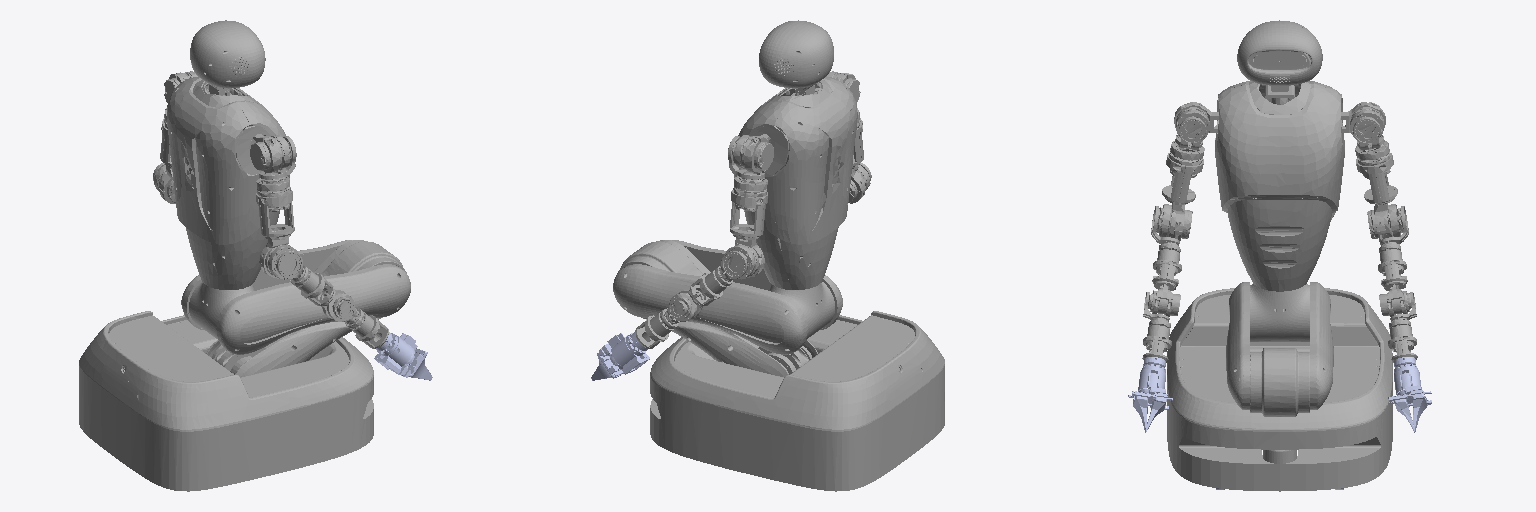
--- What the picture shows (computed from the rendered views, not written in the file) ---
The picture shows the robot from 3 angles, left to right: view 1: azimuth 30°, elevation 25°; view 2: azimuth 150°, elevation 25°; view 3: azimuth 270°, elevation 25°; orthographic projection.
Model ymbot_d_description with 34 links and 33 joints (20 revolute, 13 fixed), rooted at base_footprint_link, posed every joint at zero.
Visible links, largest first — view 1: base_link, Body_Link4, Body_Link2, Body_Link1, Neck_Link2, Right_Arm_Link3, Right_Arm_Link8, Body_Link3, Right_Arm_Link5, Right_Arm_Link1, Left_Arm_Link3, Right_Arm_Link7; view 2: base_link, Body_Link4, Body_Link2, Body_Link1, Neck_Link2, Left_Arm_Link3, Left_Arm_Link8, Body_Link3, Left_Arm_Link5, Left_Arm_Link1, Right_Arm_Link3, Left_Arm_Link7; view 3: base_link, Body_Link4, Body_Link2, Neck_Link2, Body_Link1, Body_Link3, Left_Arm_Link3, Right_Arm_Link3, Right_Arm_Link5, Left_Arm_Link5, Right_Arm_Link8, Left_Arm_Link8 (+6 smaller).
Boxes of the visible links, x1,y1,x2,y2 form: base_link: [79, 311, 373, 491]; Body_Link4: [167, 77, 289, 289]; Body_Link2: [181, 240, 410, 354]; Body_Link1: [206, 240, 406, 377]; Neck_Link2: [190, 20, 265, 90]; Right_Arm_Link3: [256, 173, 299, 279]; Right_Arm_Link8: [374, 332, 432, 380]; Body_Link3: [189, 282, 254, 338]; Right_Arm_Link5: [290, 266, 354, 321]; Right_Arm_Link1: [249, 133, 291, 173]; Left_Arm_Link3: [154, 108, 175, 203]; Right_Arm_Link7: [345, 308, 388, 348]; base_link: [650, 311, 944, 491]; Body_Link4: [734, 76, 857, 289]; Body_Link2: [613, 240, 842, 354]; Body_Link1: [617, 240, 817, 376]; Neck_Link2: [759, 20, 833, 90]; Left_Arm_Link3: [725, 173, 767, 279]; Left_Arm_Link8: [591, 332, 649, 380]; Body_Link3: [770, 282, 834, 339]; Left_Arm_Link5: [669, 266, 732, 321]; Left_Arm_Link1: [732, 133, 774, 172]; Right_Arm_Link3: [848, 108, 870, 203]; Left_Arm_Link7: [635, 308, 678, 348]; base_link: [1167, 288, 1392, 491]; Body_Link4: [1215, 81, 1344, 291]; Body_Link2: [1226, 282, 1333, 409]; Neck_Link2: [1237, 20, 1322, 85]; Body_Link1: [1250, 348, 1309, 416]; Body_Link3: [1250, 284, 1309, 341]; Left_Arm_Link3: [1355, 141, 1403, 241]; Right_Arm_Link3: [1156, 141, 1204, 240]; Right_Arm_Link5: [1148, 241, 1181, 316]; Left_Arm_Link5: [1378, 241, 1411, 316]; Right_Arm_Link8: [1128, 357, 1172, 432]; Left_Arm_Link8: [1388, 357, 1431, 432].
Bounding box of the posed robot: 0.7653 × 0.7153 × 1.07 m (x, y, z).
33 mesh visuals loaded from 33 distinct referenced files (33 binary STL).

robot.urdf — ymbot_d_description:
<?xml version="1.0" encoding="utf-8"?>
<!-- This URDF was automatically created by SolidWorks to URDF Exporter! Originally created by Stephen Brawner ([email redacted]) 
     Commit Version: 1.6.0-4-g7f85cfe  Build Version: 1.6.7995.38578
     For more information, please see http://wiki.ros.org/sw_urdf_exporter -->
<robot
  name="ymbot_d_description">


  <link name="base_footprint_link" />
  <joint name="base_footprint_joint" type="fixed">
    <parent link="base_footprint_link" />
    <child link="base_link" />
    <origin xyz="0 0 0" rpy="0 0 0"/>
  </joint>



  <link
    name="base_link">
    <inertial>
      <origin
        xyz="-0.14091401 0.00600638 0.10951765"
        rpy="0 0 0" />
      <mass
        value="32.79998065" />
      <inertia
        ixx="0.55932667"
        ixy="0.01501602"
        ixz="0.04711075"
        iyy="0.69142971"
        iyz="-0.01485230"
        izz="1.11612558" />
    </inertial>
    <visual>
      <origin
        xyz="0 0 0"
        rpy="0 0 0" />
      <geometry>
        <mesh
          filename="package://ymbot_d_description/meshes/base_link.STL" />
      </geometry>
      <material
        name="">
        <color
          rgba="0.698039215686274 0.698039215686274 0.698039215686274 1" />
      </material>
    </visual>
    <collision>
      <origin
        xyz="-0.15 -0.15 0.12"
        rpy="0 0 0" />
      <geometry>
          <sphere radius="0.18"/>
      </geometry>
     </collision>
    <collision>
      <origin
        xyz="-0.15 0.15 0.12"
        rpy="0 0 0" />
      <geometry>
          <sphere radius="0.18"/>
      </geometry>
     </collision>
    <collision>
      <origin
        xyz="0.11 -0.15 0.12"
        rpy="0 0 0" />
      <geometry>
          <sphere radius="0.18"/>
      </geometry>
     </collision>
         <collision>
      <origin
        xyz="0.11 0.15 0.12"
        rpy="0 0 0" />
      <geometry>
          <sphere radius="0.18"/>
      </geometry>
     </collision>
  </link>
  <link
    name="Body_Link1">
    <inertial>
      <origin
        xyz="0.17406139 0.08135675 -0.00411365"
        rpy="0 0 0" />
      <mass
        value="8.92330142" />
      <inertia
        ixx="0.06662447"
        ixy="-0.10947125"
        ixz="-0.00006991"
        iyy="0.25042266"
        iyz="-0.00003952"
        izz="0.30271548" />
    </inertial>
    <visual>
      <origin
        xyz="0 0 0"
        rpy="0 0 0" />
      <geometry>
        <mesh
          filename="package://ymbot_d_description/meshes/Body_Link1.STL" />
      </geometry>
      <material
        name="">
        <color
          rgba="0.698039215686274 0.698039215686274 0.698039215686274 1" />
      </material>
    </visual>
    <collision>
          <origin
        xyz="-0.07 0 0"
        rpy="0 0 0" />
      <geometry>
          <sphere radius="0.17" /> 
      </geometry>
    </collision>
  </link>
  <joint
    name="Body_Joint1"
    type="revolute">
    <origin
      xyz="0 0 0.148"
      rpy="1.5708 0 0" />
    <parent
      link="base_link" />
    <child
      link="Body_Link1" />
    <axis
      xyz="0 0 1" />
    <limit
      lower="-0.03"
      upper="1.57"
      effort="100"
      velocity="1200" />
    <dynamics
      damping="0.1"
      friction="0.01" />
  </joint>
  <link
    name="Body_Link2">
    <inertial>
      <origin
        xyz="-0.20532119 0.00564049 0.00205158"
        rpy="0 0 0" />
      <mass
        value="4.92068840" />
      <inertia
        ixx="0.04567453"
        ixy="0.00019219"
        ixz="-0.00159375"
        iyy="0.15913741"
        iyz="0.00001127"
        izz="0.12927908" />
    </inertial>
    <visual>
      <origin
        xyz="0 0 0"
        rpy="0 0 0" />
      <geometry>
        <mesh
          filename="package://ymbot_d_description/meshes/Body_Link2.STL" />
      </geometry>
      <material
        name="">
        <color
          rgba="0.698039215686274 0.698039215686274 0.698039215686274 1" />
      </material>
    </visual>
    <collision>
          <origin
        xyz="-0.07 0 0"
        rpy="0 0 0" />
      <geometry>
          <sphere radius="0.17" /> 
      </geometry>
    </collision>
        <collision>
          <origin
        xyz="-0.3 0 0"
        rpy="0 0 0" />
      <geometry>
          <sphere radius="0.17" /> 
      </geometry>
    </collision>
  </link>
  <joint
    name="Body_Joint2"
    type="revolute">
    <origin
      xyz="0.3444 0.16059 0"
      rpy="0 0 0" />
    <parent
      link="Body_Link1" />
    <child
      link="Body_Link2" />
    <axis
      xyz="0 0 -1" />
    <limit
      lower="-0.03"
      upper="3.14"
      effort="100"
      velocity="1200" />
    <dynamics
      damping="0.1"
      friction="0.01" />
  </joint>
  <link
    name="Body_Link3">
    <inertial>
      <origin
        xyz="0.00036942 0.00547998 0.00246864"
        rpy="0 0 0" />
      <mass
        value="2.72097315" />
      <inertia
        ixx="0.00437646"
        ixy="0.00000159"
        ixz="0.00000250"
        iyy="0.00375099"
        iyz="0.00003679"
        izz="0.00468512" />
    </inertial>
    <visual>
      <origin
        xyz="0 0 0"
        rpy="0 0 0" />
      <geometry>
        <mesh
          filename="package://ymbot_d_description/meshes/Body_Link3.STL" />
      </geometry>
      <material
        name="">
        <color
          rgba="0.698039215686274 0.698039215686274 0.698039215686274 1" />
      </material>
    </visual>
    <collision>
      <origin
        xyz="0 0 0"
        rpy="0 0 0" />
      <geometry>
            <sphere radius="0.01" /> 
      </geometry>
    </collision>
  </link>
  <joint
    name="Body_Joint3"
    type="revolute">
    <origin
      xyz="-0.38 0 0"
      rpy="0 0 0" />
    <parent
      link="Body_Link2" />
    <child
      link="Body_Link3" />
    <axis
      xyz="0 0 -1" />
    <limit
      lower="-3.14"
      upper="0.3"
      effort="100"
      velocity="1200" />
    <dynamics
      damping="0.1"
      friction="0.01" />
  </joint>
  <link
    name="Body_Link4">
    <inertial>
      <origin
        xyz="-0.00529135 0.00000000 -0.24089996"
        rpy="0 0 0" />
      <mass
        value="12.00785320" />
      <inertia
        ixx="0.30643191"
        ixy="-0.00000066"
        ixz="-0.00806740"
        iyy="0.26915841"
        iyz="0.00001358"
        izz="0.07484553" />
    </inertial>
    <visual>
      <origin
        xyz="0 0 0"
        rpy="0 0 0" />
      <geometry>
        <mesh
          filename="package://ymbot_d_description/meshes/Body_Link4.STL" />
      </geometry>
      <material
        name="">
        <color
          rgba="0.698039215686274 0.698039215686274 0.698039215686274 1" />
      </material>
    </visual>

    <collision>
      <origin
        xyz="0 0 -0.19"
        rpy="0 0 0" />
      <geometry>
          <sphere radius="0.17"/>
      </geometry>
    </collision>

    <collision>
      <origin
        xyz="0 0 -0.355"
        rpy="0 0 0" />
      <geometry>
          <sphere radius="0.17"/>
      </geometry>
    </collision>
  </link>
  <joint
    name="Body_Joint4"
    type="revolute">
    <origin
      xyz="0 0.0875 0"
      rpy="1.5708 0 0" />
    <parent
      link="Body_Link3" />
    <child
      link="Body_Link4" />
    <axis
      xyz="0 0 -1" />
    <limit
      lower="-3.14"
      upper="3.14"
      effort="100"
      velocity="1200" />
    <dynamics
      damping="0.1"
      friction="0.01" />
  </joint>
  <link
    name="Neck_Link1">
    <inertial>
      <origin
        xyz="0.00000000 -0.00512348 -0.02439872"
        rpy="0 0 0" />
      <mass
        value="0.22540157" />
      <inertia
        ixx="0.00006040"
        ixy="0.00000000"
        ixz="0.00000000"
        iyy="0.00007221"
        iyz="-0.00001580"
        izz="0.00004510" />
    </inertial>
    <visual>
      <origin
        xyz="0 0 0"
        rpy="0 0 0" />
      <geometry>
        <mesh
          filename="package://ymbot_d_description/meshes/Neck_Link1.STL" />
      </geometry>
      <material
        name="">
        <color
          rgba="0.698039215686274 0.698039215686274 0.698039215686274 1" />
      </material>
    </visual>
    <collision>
      <origin
        xyz="0 0 0"
        rpy="0 0 0" />
      <geometry>
            <sphere radius="0.03" /> 
      </geometry>
    </collision>
  </link>
  <joint
    name="Neck_Joint1"
    type="revolute">
    <origin
      xyz="-0.023815 0 -0.483"
      rpy="0 0 0" />
    <parent
      link="Body_Link4" />
    <child
      link="Neck_Link1" />
    <axis
      xyz="0 0 -1" />
    <limit
      lower="-3.14"
      upper="3.14"
      effort="100"
      velocity="1200" />
    <dynamics
      damping="0.1"
      friction="0.01" />
  </joint>
  <link
    name="Neck_Link2">
    <inertial>
      <origin
        xyz="0.02917938 -0.06097262 0.00412823"
        rpy="0 0 0" />
      <mass
        value="0.91507491" />
      <inertia
        ixx="0.00331580"
        ixy="0.00014323"
        ixz="-0.00005205"
        iyy="0.00368907"
        iyz="0.00004590"
        izz="0.00235088" />
    </inertial>
    <visual>
      <origin
        xyz="0 0 0"
        rpy="0 0 0" />
      <geometry>
        <mesh
          filename="package://ymbot_d_description/meshes/Neck_Link2.STL" />
      </geometry>
      <material
        name="">
        <color
          rgba="0.698039215686274 0.698039215686274 0.698039215686274 1" />
      </material>
    </visual>
    <collision>
      <origin
        xyz="0 0 0"
        rpy="0 0 0" />
      <geometry>
        <sphere radius="0.03" /> 
      </geometry>
    </collision>
  </link>
  <joint
    name="Neck_Joint2"
    type="revolute">
    <origin
      xyz="0 0 -0.037"
      rpy="1.5708 0 0" />
    <parent
      link="Neck_Link1" />
    <child
      link="Neck_Link2" />
    <axis
      xyz="0 0 -1" />
    <limit
      lower="-0.6"
      upper="0.6"
      effort="100"
      velocity="1200" />
    <dynamics
      damping="0.1"
      friction="0.01" />
  </joint>
  <link
    name="Left_Arm_Link1">
    <inertial>
      <origin
        xyz="0.00250777 0.00013622 0.08139142"
        rpy="0 0 0" />
      <mass
        value="0.8389732" />
      <inertia
        ixx="0.00112299"
        ixy="0.00000208"
        ixz="-0.00001642"
        iyy="0.00105708"
        iyz="-0.00000003"
        izz="0.00072270" />
    </inertial>
    <visual>
      <origin
        xyz="0 0 0"
        rpy="0 0 0" />
      <geometry>
        <mesh
          filename="package://ymbot_d_description/meshes/Left_Arm_Link1.STL" />
      </geometry>
      <material
        name="">
        <color
          rgba="0.698039215686274 0.698039215686274 0.698039215686274 1" />
      </material>
    </visual>
    <collision>
      <origin
        xyz="0 0 0"
        rpy="0 0 0" />
      <geometry>
        <sphere radius="0.02" /> 
      </geometry>
    </collision>
  </link>
  <joint
    name="Left_Arm_Joint1"
    type="revolute">
    <origin
      xyz="0 -0.116 -0.408"
      rpy="1.5708 0 0" />
    <parent
      link="Body_Link4" />
    <child
      link="Left_Arm_Link1" />
    <axis
      xyz="0 0 1" />
    <limit
      lower="-3.14"
      upper="3.14"
      effort="100"
      velocity="1200" />
    <dynamics
      damping="0.1"
      friction="0.01" />
  </joint>
  <link
    name="Left_Arm_Link2">
    <inertial>
      <origin
        xyz="-0.00360533 0.01377851 0.00860046"
        rpy="0 0 0" />
      <mass
        value="0.35172260" />
      <inertia
        ixx="0.00085083"
        ixy="-0.00003671"
        ixz="-0.00001366"
        iyy="0.00087099"
        iyz="0.00000900"
        izz="0.00074178" />
    </inertial>
    <visual>
      <origin
        xyz="0 0 0"
        rpy="0 0 0" />
      <geometry>
        <mesh
          filename="package://ymbot_d_description/meshes/Left_Arm_Link2.STL" />
      </geometry>
      <material
        name="">
        <color
          rgba="0.698039215686274 0.698039215686274 0.698039215686274 1" />
      </material>
    </visual>
    <collision>
      <origin
        xyz="0 0 0"
        rpy="0 0 0" />
      <geometry>
            <sphere radius="0.02" /> 
      </geometry>
    </collision>
  </link>
  <joint
    name="Left_Arm_Joint2"
    type="revolute">
    <origin
      xyz="0 0 0.0885"
      rpy="1.5708 1.3963 1.5708" />
    <parent
      link="Left_Arm_Link1" />
    <child
      link="Left_Arm_Link2" />
    <axis
      xyz="0 0 1" />
    <limit
      lower="-0.03"
      upper="1.4"
      effort="100"
      velocity="1200" />
    <dynamics
      damping="0.1"
      friction="0.01" />
  </joint>
  <link
    name="Left_Arm_Link3">
    <inertial>
      <origin
        xyz="-0.00109988 -0.00009194 -0.11449273"
        rpy="0 0 0" />
      <mass
        value="2.04717111" />
      <inertia
        ixx="0.01506238"
        ixy="0.00000104"
        ixz="-0.00015517"
        iyy="0.01494959"
        iyz="-0.00006245"
        izz="0.00251701" />
    </inertial>
    <visual>
      <origin
        xyz="0 0 0"
        rpy="0 0 0" />
      <geometry>
        <mesh
          filename="package://ymbot_d_description/meshes/Left_Arm_Link3.STL" />
      </geometry>
      <material
        name="">
        <color
          rgba="0.698039215686274 0.698039215686274 0.698039215686274 1" />
      </material>
    </visual>
    <collision>
      <origin
        xyz="0 0 0"
        rpy="0 0 0" />
      <geometry>
        <sphere radius="0.02" /> 
      </geometry>
    </collision>
  </link>
  <joint
    name="Left_Arm_Joint3"
    type="revolute">
    <origin
      xyz="0 0.0645 -0.0025"
      rpy="1.5708 0 0" />
    <parent
      link="Left_Arm_Link2" />
    <child
      link="Left_Arm_Link3" />
    <axis
      xyz="0 0 -1" />
    <limit
      lower="-3.14"
      upper="3.14"
      effort="100"
      velocity="1200" />
    <dynamics
      damping="0.1"
      friction="0.01" />
  </joint>
  <link
    name="Left_Arm_Link4">
    <inertial>
      <origin
        xyz="0.02425796 0.00000000 -0.03000956"
        rpy="0 0 0" />
      <mass
        value="0.05523925" />
      <inertia
        ixx="0.00003263"
        ixy="0.00000000"
        ixz="-0.00001716"
        iyy="0.00005765"
        iyz="0.00000000"
        izz="0.00005525" />
    </inertial>
    <visual>
      <origin
        xyz="0 0 0"
        rpy="0 0 0" />
      <geometry>
        <mesh
          filename="package://ymbot_d_description/meshes/Left_Arm_Link4.STL" />
      </geometry>
      <material
        name="">
        <color
          rgba="0.698039215686274 0.698039215686274 0.698039215686274 1" />
      </material>
    </visual>
    <collision>
      <origin
        xyz="0 0 0"
        rpy="0 0 0" />
      <geometry>
        <sphere radius="0.02" /> 
      </geometry>
    </collision>
  </link>
  <joint
    name="Left_Arm_Joint4"
    type="revolute">
    <origin
      xyz="0 0 -0.199"
      rpy="1.5708 0.7854 1.5708" />
    <parent
      link="Left_Arm_Link3" />
    <child
      link="Left_Arm_Link4" />
    <axis
      xyz="0 0 -1" />
    <limit
      lower="-0.6"
      upper="0.6"
      effort="100"
      velocity="1200" />
    <dynamics
      damping="0.1"
      friction="0.01" />
  </joint>
  <link
    name="Left_Arm_Link5">
    <inertial>
      <origin
        xyz="0.00097540 -0.00033125 0.08277163"
        rpy="0 0 0" />
      <mass
        value="1.43552815" />
      <inertia
        ixx="0.00511517"
        ixy="-0.00000035"
        ixz="-0.00006312"
        iyy="0.00513154"
        iyz="0.00001747"
        izz="0.00101365" />
    </inertial>
    <visual>
      <origin
        xyz="0 0 0"
        rpy="0 0 0" />
      <geometry>
        <mesh
          filename="package://ymbot_d_description/meshes/Left_Arm_Link5.STL" />
      </geometry>
      <material
        name="">
        <color
          rgba="0.698039215686274 0.698039215686274 0.698039215686274 1" />
      </material>
    </visual>
    <collision>
      <origin
        xyz="0 0 0.054"
        rpy="0 0 0" />
      <geometry>
          <sphere radius="0.06"/>
      </geometry>
    </collision>
    <collision>
      <origin
        xyz="0 0 -0.05"
        rpy="0 0 0" />
      <geometry>
          <sphere radius="0.06"/>
      </geometry>
    </collision>
  </link>
  <joint
    name="Left_Arm_Joint5"
    type="revolute">
    <origin
      xyz="0.063 0 0"
      rpy="0 1.5708 0" />
    <parent
      link="Left_Arm_Link4" />
    <child
      link="Left_Arm_Link5" />
    <axis
      xyz="0 0 1" />
    <limit
      lower="-3.14"
      upper="3.14"
      effort="100"
      velocity="1200" />
    <dynamics
      damping="0.1"
      friction="0.01" />
  </joint>
  <link
    name="Left_Arm_Link6">
    <inertial>
      <origin
        xyz="-0.02473921 0.00000000 0.02411396"
        rpy="0 0 0" />
      <mass
        value="0.02737117" />
      <inertia
        ixx="0.00001190"
        ixy="0.00000000"
        ixz="-0.00000524"
        iyy="0.00001505"
        iyz="0.00000000"
        izz="0.00001269" />
    </inertial>
    <visual>
      <origin
        xyz="0 0 0"
        rpy="0 0 0" />
      <geometry>
        <mesh
          filename="package://ymbot_d_description/meshes/Left_Arm_Link6.STL" />
      </geometry>
      <material
        name="">
        <color
          rgba="0.698039215686274 0.698039215686274 0.698039215686274 1" />
      </material>
    </visual>
    <collision>
      <origin
        xyz="0 0 0"
        rpy="0 0 0" />
      <geometry>
              <sphere radius="0.02" /> 
      </geometry>
    </collision>
  </link>
  <joint
    name="Left_Arm_Joint6"
    type="revolute">
    <origin
      xyz="0 0 0.1407"
      rpy="0 1.5708 0" />
    <parent
      link="Left_Arm_Link5" />
    <child
      link="Left_Arm_Link6" />
    <axis
      xyz="0 0 1" />
    <limit
      lower="-1.4"
      upper="1.4"
      effort="100"
      velocity="1200" />
    <dynamics
      damping="0.1"
      friction="0.01" />
  </joint>
  <link
    name="Left_Arm_Link7">
    <inertial>
      <origin
        xyz="-0.00037657 -0.00065265 -0.03295542"
        rpy="0 0 0" />
      <mass
        value="0.77161209" />
      <inertia
        ixx="0.00098580"
        ixy="0.00000033"
        ixz="0.00000274"
        iyy="0.00096065"
        iyz="0.00003442"
        izz="0.00054062" />
    </inertial>
    <visual>
      <origin
        xyz="0 0 0"
        rpy="0 0 0" />
      <geometry>
        <mesh
          filename="package://ymbot_d_description/meshes/Left_Arm_Link7.STL" />
      </geometry>
      <material
        name="">
        <color
          rgba="0.698039215686274 0.698039215686274 0.698039215686274 1" />
      </material>
    </visual>
    <collision>
      <origin
        xyz="0 0 0.03"
        rpy="0 0 0" />
      <geometry>
          <sphere radius="0.06"/>
      </geometry>
    </collision>
    <collision>
      <origin
        xyz="0 0 -0.07"
        rpy="0 0 0" />
      <geometry>
          <sphere radius="0.06"/>
      </geometry>
    </collision>
  </link>
  <joint
    name="Left_Arm_Joint7"
    type="revolute">
    <origin
      xyz="-0.051 0 0"
      rpy="0 1.5708 0" />
    <parent
      link="Left_Arm_Link6" />
    <child
      link="Left_Arm_Link7" />
    <axis
      xyz="0 0 -1" />
    <limit
      lower="-3.14"
      upper="3.14"
      effort="100"
      velocity="1200" />
    <dynamics
      damping="0.1"
      friction="0.01" />
  </joint>

   <link
    name="Left_Arm_Link8">
    <inertial>
      <origin
        xyz="0.00177279 0.00011701 -0.00422743"
        rpy="0 0 0" />
      <mass
        value="0.30096411" />
      <inertia
        ixx="0.00020406"
        ixy="0.00000014"
        ixz="0.00001669"
        iyy="0.00023568"
        iyz="0.00000035"
        izz="0.00019387" />
    </inertial>
    <visual>
      <origin
        xyz="0 0 0"
        rpy="0 0 0" />
      <geometry>
        <mesh
          filename="package://ymbot_d_description/meshes/Left_Arm_Link8.STL" />
      </geometry>
      <material
        name="">
        <color
          rgba="0.792156862745098 0.819607843137255 0.933333333333333 1" />
      </material>
    </visual>
    <collision>
      <origin
        xyz="0.070 0 0"
        rpy="0 0 0" />
      <geometry>
          <sphere radius="0.06"/>
      </geometry>
    </collision>
  </link>
  <joint
    name="Left_Arm_Joint8"
    type="fixed">
    <origin
      xyz="0 0 -0.1267"
      rpy="0.0 1.5708 1.5708" />
    <parent
      link="Left_Arm_Link7" />
    <child
      link="Left_Arm_Link8" />
    <axis
      xyz="0 0 0" />
  </joint>
  <link
    name="Right_Arm_Link1">
    <inertial>
      <origin
        xyz="0.00250777 -0.00013622 -0.08139142"
        rpy="0 0 0" />
      <mass
        value="0.83897327" />
      <inertia
        ixx="0.00112299"
        ixy="-0.00000208"
        ixz="0.00001642"
        iyy="0.00105708"
        iyz="-0.00000003"
        izz="0.00072270" />
    </inertial>
    <visual>
      <origin
        xyz="0 0 0"
        rpy="0 0 0" />
      <geometry>
        <mesh
          filename="package://ymbot_d_description/meshes/Right_Arm_Link1.STL" />
      </geometry>
      <material
        name="">
        <color
          rgba="0.698039215686274 0.698039215686274 0.698039215686274 1" />
      </material>
    </visual>
    <collision>
      <origin
        xyz="0 0 0"
        rpy="0 0 0" />
      <geometry>
        <sphere radius="0.02" /> 
      </geometry>
    </collision>
  </link>
  <joint
    name="Right_Arm_Joint1"
    type="revolute">
    <origin
      xyz="0 0.116 -0.408"
      rpy="1.5708 0 0" />
    <parent
      link="Body_Link4" />
    <child
      link="Right_Arm_Link1" />
    <axis
      xyz="0 0 -1" />
    <limit
      lower="-3.14"
      upper="3.14"
      effort="100"
      velocity="1200" />
    <dynamics
      damping="0.1"
      friction="0.01" />
  </joint>
  <link
    name="Right_Arm_Link2">
    <inertial>
      <origin
        xyz="0.00281546 0.01734375 0.01244298"
        rpy="0 0 0" />
      <mass
        value="0.22504825" /> 
      <inertia
        ixx="0.00050540"
        ixy="0.00002055"
        ixz="0.00000924"
        iyy="0.00049137"
        iyz="0.00000977"
        izz="0.00043005" />
    </inertial>
    <visual>
      <origin
        xyz="0 0 0"
        rpy="0 0 0" />
      <geometry>
        <mesh
          filename="package://ymbot_d_description/meshes/Right_Arm_Link2.STL" />
      </geometry>
      <material
        name="">
        <color
          rgba="0.698039215686274 0.698039215686274 0.698039215686274 1" />
      </material>
    </visual>
    <collision>
      <origin
        xyz="0 0 0"
        rpy="0 0 0" />
      <geometry>
        <sphere radius="0.02" /> 
      </geometry>
    </collision>
  </link>
  <joint
    name="Right_Arm_Joint2"
    type="revolute">
    <origin
      xyz="0 0 -0.0885"
      rpy="-1.5708 1.3963 -1.5708" />
    <parent
      link="Right_Arm_Link1" />
    <child
      link="Right_Arm_Link2" />
    <axis
      xyz="0 0 1" />
    <limit
      lower="-1.4"
      upper="0.03"
      effort="100"
      velocity="1200" />
    <dynamics
      damping="0.1"
      friction="0.01" />
  </joint>
  <link
    name="Right_Arm_Link3">
    <inertial>
      <origin
        xyz="0.00109868 -0.00020354 -0.11437827"
        rpy="0 0 0" />
      <mass
        value="2.04713159" />
      <inertia
        ixx="0.01502315"
        ixy="-0.00000282"
        ixz="0.00015887"
        iyy="0.01491044"
        iyz="-0.00004793"
        izz="0.00251687" />
    </inertial>
    <visual>
      <origin
        xyz="0 0 0"
        rpy="0 0 0" />
      <geometry>
        <mesh
          filename="package://ymbot_d_description/meshes/Right_Arm_Link3.STL" />
      </geometry>
      <material
        name="">
        <color
          rgba="0.698039215686274 0.698039215686274 0.698039215686274 1" />
      </material>
    </visual>
    <collision>
      <origin
        xyz="0 0 0"
        rpy="0 0 0" />
      <geometry>
        <sphere radius="0.03" /> 
      </geometry>
    </collision>
  </link>
  <joint
    name="Right_Arm_Joint3"
    type="revolute">
    <origin
      xyz="0 0.0645 -0.0025"
      rpy="1.5708 0 0" />
    <parent
      link="Right_Arm_Link2" />
    <child
      link="Right_Arm_Link3" />
    <axis
      xyz="0 0 -1" />
    <limit
      lower="-3.14"
      upper="3.14"
      effort="100"
      velocity="1200" />
    <dynamics
      damping="0.1"
      friction="0.01" />
  </joint>
  <link
    name="Right_Arm_Link4">
    <inertial>
      <origin
        xyz="0.02425796 0.00000000 0.03000956"
        rpy="0 0 0" />
      <mass
        value="0.05523925" />
      <inertia
        ixx="0.00003263"
        ixy="0.00000000"
        ixz="0.00001716"
        iyy="0.00005765"
        iyz="0.00000000"
        izz="0.00005525" />
    </inertial>
    <visual>
      <origin
        xyz="0 0 0"
        rpy="0 0 0" />
      <geometry>
        <mesh
          filename="package://ymbot_d_description/meshes/Right_Arm_Link4.STL" />
      </geometry>
      <material
        name="">
        <color
          rgba="0.698039215686274 0.698039215686274 0.698039215686274 1" />
      </material>
    </visual>
    <collision>
      <origin
        xyz="0 0 0"
        rpy="0 0 0" />
      <geometry>
        <sphere radius="0.02" /> 
      </geometry>
    </collision>
  </link>
  <joint
    name="Right_Arm_Joint4"
    type="revolute">
    <origin
      xyz="0 0 -0.199"
      rpy="1.5708 0.7854 1.5708" />
    <parent
      link="Right_Arm_Link3" />
    <child
      link="Right_Arm_Link4" />
    <axis
      xyz="0 0 1" />
    <limit
      lower="-0.6"
      upper="0.6"
      effort="100"
      velocity="1200" />
    <dynamics
      damping="0.1"
      friction="0.01" />
  </joint>
  <link
    name="Right_Arm_Link5">
    <inertial>
      <origin
        xyz="-0.00101229 -0.00026130 0.08279144"
        rpy="0 0 0" />
      <mass
        value="1.43553166" />
      <inertia
        ixx="0.00511551"
        ixy="-0.00000176"
        ixz="0.00006113"
        iyy="0.00513524"
        iyz="0.00001402"
        izz="0.00101338" />
    </inertial>
    <visual>
      <origin
        xyz="0 0 0"
        rpy="0 0 0" />
      <geometry>
        <mesh
          filename="package://ymbot_d_description/meshes/Right_Arm_Link5.STL" />
      </geometry>
      <material
        name="">
        <color
          rgba="0.698039215686274 0.698039215686274 0.698039215686274 1" />
      </material>
    </visual>
    <collision>
      <origin
        xyz="0 0 0.054"
        rpy="0 0 0" />
      <geometry>
        <!-- <mesh
          filename="package://ymbot_d_description/meshes/Left_Arm_Link8.STL" /> -->
          <sphere radius="0.06"/>
      </geometry>
    </collision>
    <collision>
      <origin
        xyz="0 0 -0.05"
        rpy="0 0 0" />
      <geometry>
        <!-- <mesh
          filename="package://ymbot_d_description/meshes/Left_Arm_Link8.STL" /> -->
          <sphere radius="0.06"/>
      </geometry>
    </collision>
  </link>
  <joint
    name="Right_Arm_Joint5"
    type="revolute">
    <origin
      xyz="0.063 0 0"
      rpy="-1.8104E-05 1.5708 -1.082E-05" />
    <parent
      link="Right_Arm_Link4" />
    <child
      link="Right_Arm_Link5" />
    <axis
      xyz="0 0 1" />
    <limit
      lower="-3.14"
      upper="3.14"
      effort="100"
      velocity="1200" />
    <dynamics
      damping="0.1"
      friction="0.01" />
  </joint>
  <link
    name="Right_Arm_Link6">
    <inertial>
      <origin
        xyz="-0.02473921 0.00000000 -0.02411396"
        rpy="0 0 0" />
      <mass
        value="0.02737117" />
      <inertia
        ixx="0.00001190"
        ixy="0.00000000"
        ixz="0.00000524"
        iyy="0.00001505"
        iyz="0.00000000"
        izz="0.00001269" />
    </inertial>
    <visual>
      <origin
        xyz="0 0 0"
        rpy="0 0 0" />
      <geometry>
        <mesh
          filename="package://ymbot_d_description/meshes/Right_Arm_Link6.STL" />
      </geometry>
      <material
        name="">
        <color
          rgba="0.698039215686274 0.698039215686274 0.698039215686274 1" />
      </material>
    </visual>
    <collision>
      <origin
        xyz="0 0 0"
        rpy="0 0 0" />
      <geometry>
        <sphere radius="0.02" /> 
      </geometry>
    </collision>
  </link>
  <joint
    name="Right_Arm_Joint6"
    type="revolute">
    <origin
      xyz="0 0 0.1407"
      rpy="-3.1416 1.5708 3.1416" />
    <parent
      link="Right_Arm_Link5" />
    <child
      link="Right_Arm_Link6" />
    <axis
      xyz="0 0 -1" />
    <limit
      lower="-1.4"
      upper="1.4"
      effort="100"
      velocity="1200" />
    <dynamics
      damping="0.1"
      friction="0.01" />
  </joint>
  <link
    name="Right_Arm_Link7">
    <inertial>
      <origin
        xyz="0.00007951 -0.00065301 -0.03295487"
        rpy="0 0 0" />
      <mass
        value="0.77161771" /> 
      <inertia
        ixx="0.00098583"
        ixy="0.00000132"
        ixz="-0.00000329"
        iyy="0.00096078"
        iyz="0.00003443"
        izz="0.00054073" />
    </inertial>
    <visual>
      <origin
        xyz="0 0 0"
        rpy="0 0 0" />
      <geometry>
        <mesh
          filename="package://ymbot_d_description/meshes/Right_Arm_Link7.STL" />
      </geometry>
      <material
        name="">
        <color
          rgba="0.698039215686274 0.698039215686274 0.698039215686274 1" />
      </material>
    </visual>
    <collision>
      <origin
        xyz="0 0 0.03"
        rpy="0 0 0" />
      <geometry>
        <!-- <mesh
          filename="package://ymbot_d_description/meshes/Left_Arm_Link8.STL" /> -->
          <sphere radius="0.06"/>
      </geometry>
    </collision>
    <collision>
      <origin
        xyz="0 0 -0.07"
        rpy="0 0 0" />
      <geometry>
        <!-- <mesh
          filename="package://ymbot_d_description/meshes/Left_Arm_Link8.STL" /> -->
          <sphere radius="0.06"/>
      </geometry>
    </collision>
  </link>
  <joint
    name="Right_Arm_Joint7"
    type="revolute">
    <origin
      xyz="-0.051 0 0"
      rpy="0 1.5708 0" />
    <parent
      link="Right_Arm_Link6" />
    <child
      link="Right_Arm_Link7" />
    <axis
      xyz="0 0 -1" />
    <limit
      lower="-3.14"
      upper="3.14"
      effort="100"
      velocity="1200" />
    <dynamics
      damping="0.1"
      friction="0.01" />
  </joint>

    <link
    name="Right_Arm_Link8">
    <inertial>
      <origin
        xyz="0.00677279 0.00011701 -0.00422743"
        rpy="0 0 0" />
      <mass
        value="0.30096411" />
      <inertia
        ixx="0.00020406"
        ixy="0.00000014"
        ixz="0.00001669"
        iyy="0.00023568"
        iyz="0.00000035"
        izz="0.00019387" />
    </inertial>
    <visual>
      <origin
        xyz="0 0 0"
        rpy="0 0 0" />
      <geometry>
        <mesh
          filename="package://ymbot_d_description/meshes/Right_Arm_Link8.STL" />
      </geometry>
      <material
        name="">
        <color
          rgba="0.79216 0.81961 0.93333 1" />
      </material>
    </visual>
    <collision>
      <origin
        xyz="0.070 0 0"
        rpy="0 0 0" />
      <geometry>
        <!-- <mesh
          filename="package://ymbot_d_description/meshes/Left_Arm_Link8.STL" /> -->
          <sphere radius="0.06"/>
      </geometry>
    </collision>
  </link>
  <joint
    name="Right_Arm_Joint8"
    type="fixed">
    <origin
      xyz="0 0 -0.1217"
      rpy="0.0 1.5708 1.5708" />
    <parent
      link="Right_Arm_Link7" />
    <child
      link="Right_Arm_Link8" />
    <axis
      xyz="0 0 0" />
  </joint>


  <link
    name="Driven_Wheel_Link1">
    <inertial>
      <origin
        xyz="0.00333454 0.00000000 -0.00827570"
        rpy="0 0 0" />
      <mass
        value="0.01478552" />
      <inertia
        ixx="0.00000464"
        ixy="0.00000000"
        ixz="0.00000090"
        iyy="0.00000441"
        iyz="0.00000000"
        izz="0.00000402" />
    </inertial>
    <visual>
      <origin
        xyz="0 0 0"
        rpy="0 0 0" />
      <geometry>
        <mesh
          filename="package://ymbot_d_description/meshes/Driven_Wheel_Link1.STL" />
      </geometry>
      <material
        name="">
        <color
          rgba="0.792156862745098 0.819607843137255 0.933333333333333 1" />
      </material>
    </visual>
    <collision>
      <origin
        xyz="0 0 0"
        rpy="0 0 0" />
      <geometry>
        <sphere radius="0.01" /> 
      </geometry>
    </collision>
  </link>
  <joint
    name="Driven_Wheel_Joint1"
    type="fixed">
    <origin
      xyz="0.215 0.14 0.041"
      rpy="0 0 0" />
    <parent
      link="base_link" />
    <child
      link="Driven_Wheel_Link1" />
    <axis
      xyz="0 0 -1" />
  </joint>
  <link
    name="Driven_Wheel_Link2">
    <inertial>
      <origin
        xyz="0.00000000 0.00000000 0.00000000"
        rpy="0 0 0" />
      <mass
        value="0.02947568" />
      <inertia
        ixx="0.00000426"
        ixy="0.00000000"
        ixz="0.00000000"
        iyy="0.00000426"
        iyz="0.00000000"
        izz="0.00000553" />
    </inertial>
    <visual>
      <origin
        xyz="0 0 0"
        rpy="0 0 0" />
      <geometry>
        <mesh
          filename="package://ymbot_d_description/meshes/Driven_Wheel_Link2.STL" />
      </geometry>
      <material
        name="">
        <color
          rgba="0.792156862745098 0.819607843137255 0.933333333333333 1" />
      </material>
    </visual>
    <collision>
      <origin
        xyz="0 0 0"
        rpy="0 0 0" />
      <geometry>
       <sphere radius="0.01" /> 
      </geometry>
    </collision>
  </link>
  <joint
    name="Driven_Wheel_Joint2"
    type="fixed">
    <origin
      xyz="0.02 0 -0.039"
      rpy="1.5708 0 0" />
    <parent
      link="Driven_Wheel_Link1" />
    <child
      link="Driven_Wheel_Link2" />
    <axis
      xyz="0 0 1" />
  </joint>
  <link
    name="Driven_Wheel_Link3">
    <inertial>
      <origin
        xyz="0.00333454 0.00000000 -0.00827570"
        rpy="0 0 0" />
      <mass
        value="0.01478552" />
      <inertia
        ixx="0.00000464"
        ixy="0.00000000"
        ixz="0.00000090"
        iyy="0.00000441"
        iyz="0.00000000"
        izz="0.00000402" />
    </inertial>
    <visual>
      <origin
        xyz="0 0 0"
        rpy="0 0 0" />
      <geometry>
        <mesh
          filename="package://ymbot_d_description/meshes/Driven_Wheel_Link3.STL" />
      </geometry>
      <material
        name="">
        <color
          rgba="0.792156862745098 0.819607843137255 0.933333333333333 1" />
      </material>
    </visual>
    <collision>
      <origin
        xyz="0 0 0"
        rpy="0 0 0" />
      <geometry>
        <sphere radius="0.01" /> 
      </geometry>
    </collision>
  </link>
  <joint
    name="Driven_Wheel_Joint3"
    type="fixed">
    <origin
      xyz="-0.275 0.14 0.041"
      rpy="0 0 0" />
    <parent
      link="base_link" />
    <child
      link="Driven_Wheel_Link3" />
    <axis
      xyz="0 0 -1" />
  </joint>
  <link
    name="Driven_Wheel_Link4">
    <inertial>
      <origin
        xyz="0.00000000 0.00000000 0.00000000"
        rpy="0 0 0" />
      <mass
        value="0.02947568" />
      <inertia
        ixx="0.00000426"
        ixy="0.00000000"
        ixz="0.00000000"
        iyy="0.00000426"
        iyz="0.00000000"
        izz="0.00000553" />
    </inertial>
    <visual>
      <origin
        xyz="0 0 0"
        rpy="0 0 0" />
      <geometry>
        <mesh
          filename="package://ymbot_d_description/meshes/Driven_Wheel_Link4.STL" />
      </geometry>
      <material
        name="">
        <color
          rgba="0.792156862745098 0.819607843137255 0.933333333333333 1" />
      </material>
    </visual>
    <collision>
      <origin
        xyz="0 0 0"
        rpy="0 0 0" />
      <geometry>
        <sphere radius="0.01" /> 
      </geometry>
    </collision>
  </link>
  <joint
    name="Driven_Wheel_Joint4"
    type="fixed">
    <origin
      xyz="-0.02 0 -0.039"
      rpy="1.5708 0 0" />
    <parent
      link="Driven_Wheel_Link3" />
    <child
      link="Driven_Wheel_Link4" />
    <axis
      xyz="0 0 -1" />
  </joint>
  <link
    name="Driven_Wheel_Link5">
    <inertial>
      <origin
        xyz="0.00333454 0.00000000 -0.00827570"
        rpy="0 0 0" />
      <mass
        value="0.01478552" />
      <inertia
        ixx="0.00000464"
        ixy="0.00000000"
        ixz="0.00000090"
        iyy="0.00000441"
        iyz="0.00000000"
        izz="0.00000402" />
    </inertial>
    <visual>
      <origin
        xyz="0 0 0"
        rpy="0 0 0" />
      <geometry>
        <mesh
          filename="package://ymbot_d_description/meshes/Driven_Wheel_Link5.STL" />
      </geometry>
      <material
        name="">
        <color
          rgba="0.792156862745098 0.819607843137255 0.933333333333333 1" />
      </material>
    </visual>
    <collision>
      <origin
        xyz="0 0 0"
        rpy="0 0 0" />
      <geometry>
        <sphere radius="0.01" /> 
      </geometry>
    </collision>
  </link>
  <joint
    name="Driven_Wheel_Joint5"
    type="fixed">
    <origin
      xyz="0.215 -0.14 0.039693"
      rpy="0 0 0" />
    <parent
      link="base_link" />
    <child
      link="Driven_Wheel_Link5" />
    <axis
      xyz="0 0 -1" />
  </joint>
  <link
    name="Driven_Wheel_Link6">
    <inertial>
      <origin
        xyz="0.00000000 0.00000000 0.00000000"
        rpy="0 0 0" />
      <mass
        value="0.02947568" />
      <inertia
        ixx="0.00000426"
        ixy="0.00000000"
        ixz="0.00000000"
        iyy="0.00000426"
        iyz="0.00000000"
        izz="0.00000553" />
    </inertial>
    <visual>
      <origin
        xyz="0 0 0"
        rpy="0 0 0" />
      <geometry>
        <mesh
          filename="package://ymbot_d_description/meshes/Driven_Wheel_Link6.STL" />
      </geometry>
      <material
        name="">
        <color
          rgba="0.792156862745098 0.819607843137255 0.933333333333333 1" />
      </material>
    </visual>
    <collision>
      <origin
        xyz="0 0 0"
        rpy="0 0 0" />
      <geometry>
        <sphere radius="0.01" /> 
      </geometry>
    </collision>
  </link>
  <joint
    name="Driven_Wheel_Joint6"
    type="fixed">
    <origin
      xyz="0.02 0 -0.039"
      rpy="1.5708 0 0" />
    <parent
      link="Driven_Wheel_Link5" />
    <child
      link="Driven_Wheel_Link6" />
    <axis
      xyz="0 0 1" />
  </joint>
  <link
    name="Driven_Wheel_Link7">
    <inertial>
      <origin
        xyz="0.00333454 0.00000000 -0.00827570"
        rpy="0 0 0" />
      <mass
        value="0.01478552" />
      <inertia
        ixx="0.00000464"
        ixy="0.00000000"
        ixz="0.00000090"
        iyy="0.00000441"
        iyz="0.00000000"
        izz="0.00000402" />
    </inertial>
    <visual>
      <origin
        xyz="0 0 0"
        rpy="0 0 0" />
      <geometry>
        <mesh
          filename="package://ymbot_d_description/meshes/Driven_Wheel_Link7.STL" />
      </geometry>
      <material
        name="">
        <color
          rgba="0.792156862745098 0.819607843137255 0.933333333333333 1" />
      </material>
    </visual>
    <collision>
      <origin
        xyz="0 0 0"
        rpy="0 0 0" />
      <geometry>
        <sphere radius="0.01" /> 
      </geometry>
    </collision>
  </link>
  <joint
    name="Driven_Wheel_Joint7"
    type="fixed">
    <origin
      xyz="-0.275 -0.14 0.041"
      rpy="0 0 0" />
    <parent
      link="base_link" />
    <child
      link="Driven_Wheel_Link7" />
    <axis
      xyz="0 0 -1" />
  </joint>
  <link
    name="Driven_Wheel_Link8">
    <inertial>
      <origin
        xyz="0.00000000 0.00000000 0.00000000"
        rpy="0 0 0" />
      <mass
        value="0.02947568" />
      <inertia
        ixx="0.00000426"
        ixy="0.00000000"
        ixz="0.00000000"
        iyy="0.00000426"
        iyz="0.00000000"
        izz="0.00000553" />
    </inertial>
    <visual>
      <origin
        xyz="0 0 0"
        rpy="0 0 0" />
      <geometry>
        <mesh
          filename="package://ymbot_d_description/meshes/Driven_Wheel_Link8.STL" />
      </geometry>
      <material
        name="">
        <color
          rgba="0.792156862745098 0.819607843137255 0.933333333333333 1" />
      </material>
    </visual>
    <collision>
      <origin
        xyz="0 0 0"
        rpy="0 0 0" />
      <geometry>
        <sphere radius="0.01" /> 
      </geometry>
    </collision>
  </link>
  <joint
    name="Driven_Wheel_Joint8"
    type="fixed">
    <origin
      xyz="-0.02 0 -0.039"
      rpy="1.5708 0 0" />
    <parent
      link="Driven_Wheel_Link7" />
    <child
      link="Driven_Wheel_Link8" />
    <axis
      xyz="0 0 -1" />
  </joint>
  <link
    name="Driving_Wheel_Link1">
    <inertial>
      <origin
        xyz="0.00000000 -0.00000624 -0.04307687"
        rpy="0 0 0" />
      <mass
        value="3.0218988" />
      <inertia
        ixx="0.00547783"
        ixy="0.00000000"
        ixz="0.00000000"
        iyy="0.00547792"
        iyz="0.00000111"
        izz="0.00948928" />
    </inertial>
    <visual>
      <origin
        xyz="0 0 0"
        rpy="0 0 0" />
      <geometry>
        <mesh
          filename="package://ymbot_d_description/meshes/Driving_Wheel_Link1.STL" />
      </geometry>
      <material
        name="">
        <color
          rgba="0.69804 0.69804 0.69804 1" />
      </material>
    </visual>
    <collision>
      <origin
        xyz="0 0 0"
        rpy="0 0 0" />
      <geometry>
        <sphere radius="0.01" /> 
      </geometry>
    </collision>
  </link>
  <joint
    name="Driving_Wheel_Joint1"
    type="fixed">
    <origin
      xyz="-0.005 0.15 0.0665"
      rpy="1.5708 0 0" />
    <parent
      link="base_link" />
    <child
      link="Driving_Wheel_Link1" />
    <axis
      xyz="0 0 1" />
  </joint>
  <link
    name="Driving_Wheel_Link2">
    <inertial>
      <origin
        xyz="0.00000000 -0.00000624 0.04307687"
        rpy="0 0 0" />
      <mass
        value="3.0218988" />
      <inertia
        ixx="0.00547783"
        ixy="0.00000000"
        ixz="0.00000000"
        iyy="0.00547792"
        iyz="-0.00000111"
        izz="0.00948928" />
    </inertial>
    <visual>
      <origin
        xyz="0 0 0"
        rpy="0 0 0" />
      <geometry>
        <mesh
          filename="package://ymbot_d_description/meshes/Driving_Wheel_Link2.STL" />
      </geometry>
      <material
        name="">
        <color
          rgba="0.69804 0.69804 0.69804 1" />
      </material>
    </visual>
    <collision>
      <origin
        xyz="0 0 0"
        rpy="0 0 0" />
      <geometry>
        <sphere radius="0.01" /> 
      </geometry>
    </collision>
  </link>
  <joint
    name="Driving_Wheel_Joint2"
    type="fixed">
    <origin
      xyz="-0.005 -0.15 0.0665"
      rpy="1.5708 0 0" />
    <parent
      link="base_link" />
    <child
      link="Driving_Wheel_Link2" />
    <axis
      xyz="0 0 -1" />
  </joint>
</robot>
